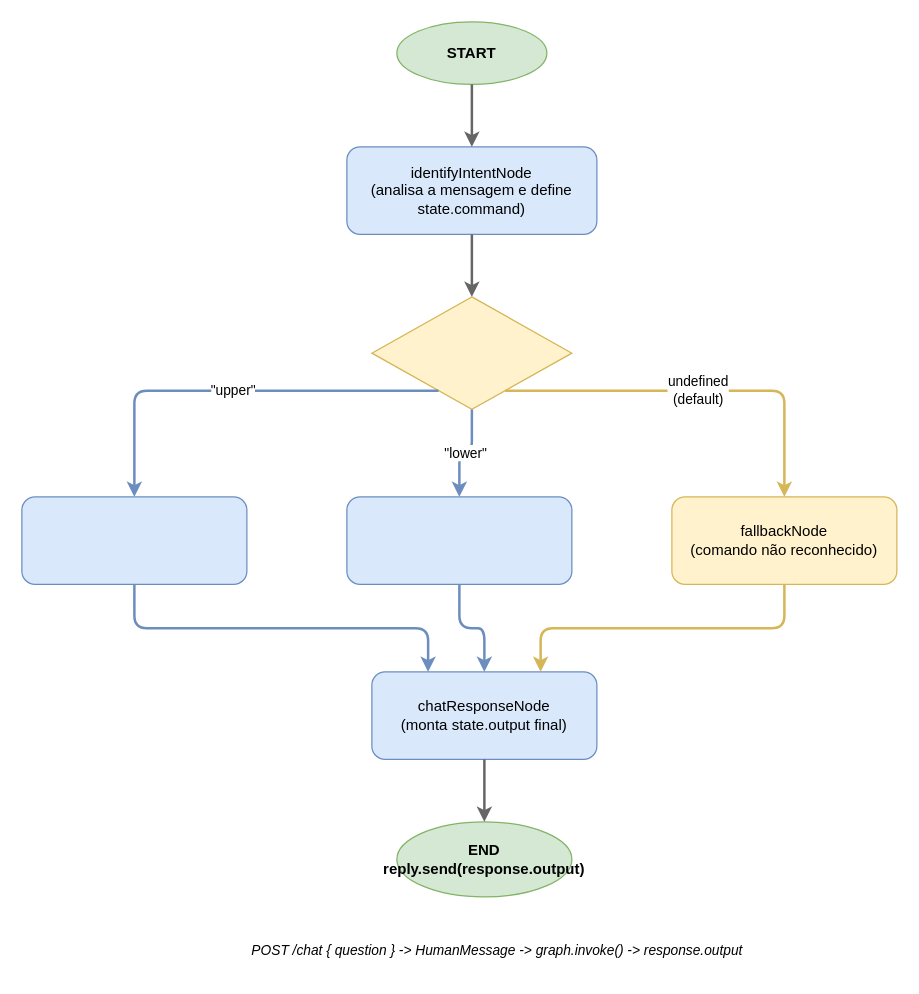
The diagram is 919 pixels wide and 994 high, and some of its shapes have lost their labels. Each missing label, with the centre of its shape:
"lowerCaseNode (converte para minúsculo)" goes at [459,540].
"routeByCommand state.command?" goes at [471,352].
"upperCaseNode (converte para MAIÚSCULO)" goes at [134,540].
